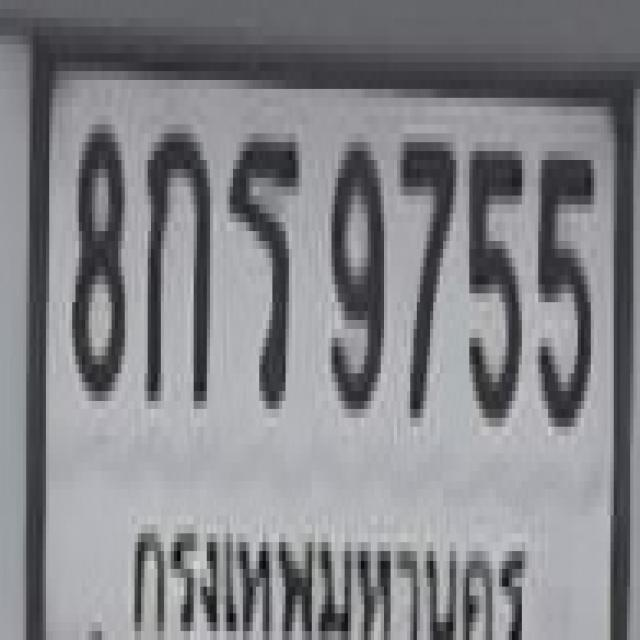-: (226, 124, 298, 400), (141, 124, 207, 400)
5: (535, 142, 591, 418), (466, 142, 519, 418)
7: (397, 133, 453, 409)
8: (69, 116, 121, 391)
9: (328, 133, 381, 409)
BKK: (122, 494, 538, 640)
